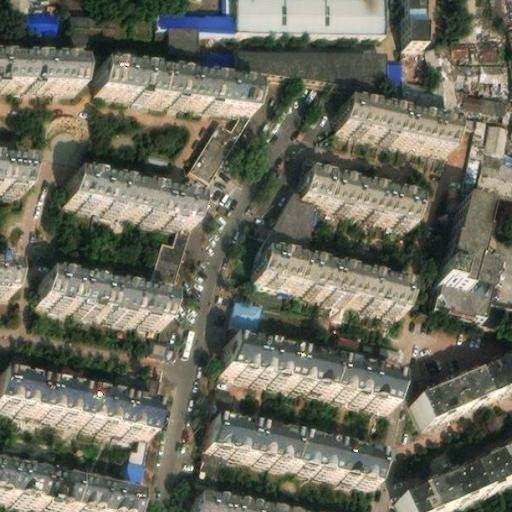building: (199, 417, 377, 485), (220, 338, 395, 406), (254, 250, 406, 313), (95, 59, 255, 112), (395, 448, 512, 512), (409, 356, 512, 426), (68, 166, 199, 221), (39, 273, 171, 326), (301, 161, 422, 218), (334, 100, 453, 151), (237, 43, 388, 83), (436, 244, 501, 314), (263, 188, 323, 261), (189, 110, 250, 180), (444, 194, 490, 283), (146, 218, 193, 297), (0, 54, 78, 88), (65, 12, 153, 42), (224, 289, 264, 344), (477, 115, 512, 177), (190, 492, 288, 512), (118, 435, 150, 496), (158, 6, 238, 28), (191, 446, 222, 496), (463, 113, 487, 177), (4, 5, 57, 27), (167, 22, 201, 56), (451, 35, 498, 58), (399, 0, 422, 44), (451, 58, 505, 74), (462, 89, 507, 108), (0, 156, 25, 190), (387, 53, 402, 84), (0, 263, 13, 293)
